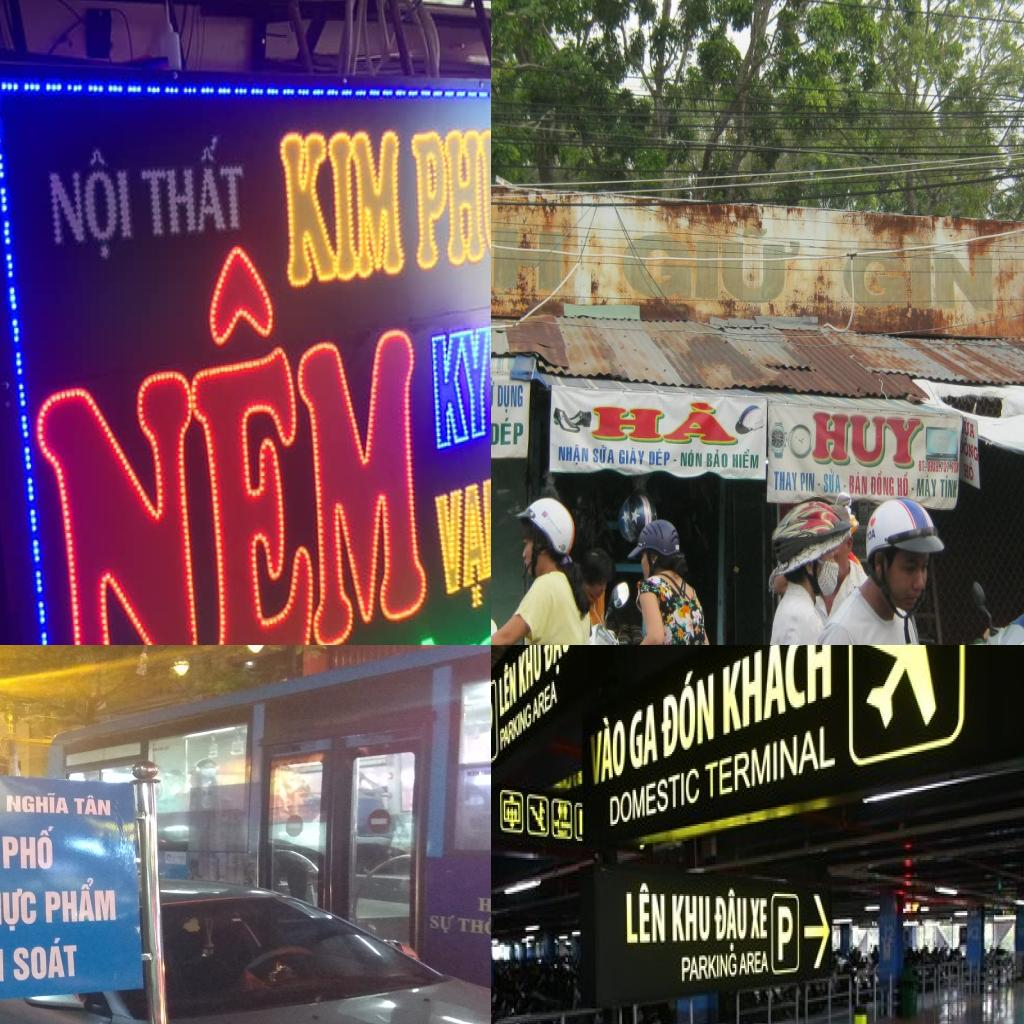text: (14, 208, 435, 645), (271, 126, 410, 290), (403, 105, 491, 307), (618, 223, 806, 311), (839, 227, 1001, 324), (130, 134, 249, 246), (703, 718, 839, 805), (42, 150, 138, 264), (720, 645, 836, 737), (424, 304, 491, 449), (429, 473, 491, 621), (591, 396, 744, 448), (810, 408, 926, 471), (606, 762, 702, 832), (369, 590, 491, 645), (491, 209, 568, 293), (656, 660, 717, 764), (42, 877, 118, 925), (11, 936, 83, 982), (622, 881, 669, 949), (587, 709, 627, 788), (1, 824, 59, 869), (713, 888, 750, 956), (628, 701, 662, 773), (669, 892, 713, 943), (680, 951, 738, 985), (498, 701, 532, 756), (0, 886, 38, 934), (4, 791, 72, 815), (496, 652, 519, 722), (516, 645, 543, 703), (532, 680, 560, 724), (775, 905, 795, 966), (542, 645, 570, 686), (491, 415, 525, 448), (737, 949, 771, 981), (749, 896, 769, 943), (73, 793, 112, 817), (557, 441, 591, 467), (457, 913, 491, 939), (496, 384, 525, 414), (870, 470, 896, 498), (732, 448, 761, 472), (617, 446, 647, 468), (428, 912, 457, 934), (592, 442, 616, 467), (773, 468, 798, 492), (647, 446, 672, 468), (678, 448, 703, 470), (916, 474, 938, 499), (927, 458, 961, 474), (849, 469, 868, 497), (705, 448, 729, 470), (822, 469, 843, 494), (940, 476, 958, 500), (896, 470, 910, 498), (800, 470, 816, 494), (475, 895, 491, 915), (963, 460, 976, 484), (491, 376, 496, 410), (918, 459, 928, 473), (672, 457, 678, 464), (842, 483, 848, 489), (817, 482, 821, 488), (911, 486, 915, 492)
